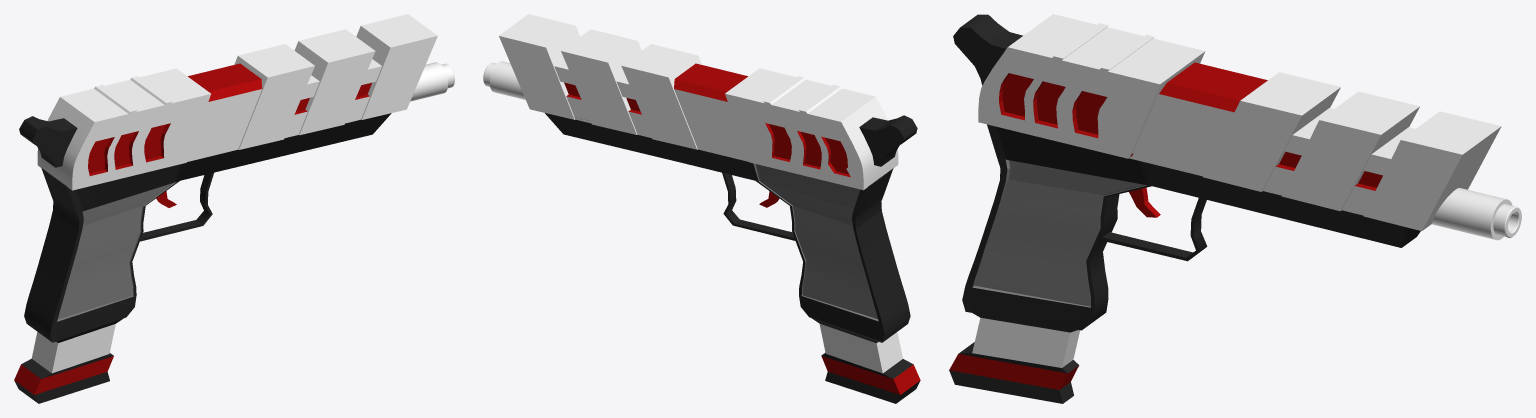
The model's file is lasergun.fbx.
3 views of the same model, side by side, from view 1: azimuth 30°, elevation 25°; view 2: azimuth 150°, elevation 25°; view 3: azimuth 330°, elevation 25° (orthographic). The views are drawn at different scales.
Parts seen in each view (by area): view 1: polySurface2, pCube7, pCube6, pCube8, pCube9, pPipe2; view 2: polySurface2, pCube7, pCube6, pCube8, pCube9, pPipe2; view 3: polySurface2, pCube7, pCube6, pPipe2, pCube8, pCube9, pPipe1.
Part boxes in pixels (x1,y1,x2,y2): polySurface2: (37,14,437,190); pCube7: (14,113,391,403); pCube6: (187,59,381,161); pCube8: (19,116,77,167); pCube9: (140,172,213,241); pPipe2: (410,62,447,101); polySurface2: (499,14,898,190); pCube7: (545,113,920,403); pCube6: (554,59,748,161); pCube8: (859,115,917,166); pCube9: (722,172,795,240); pPipe2: (490,61,525,99); polySurface2: (978,14,1501,231); pCube7: (949,124,1420,403); pCube6: (1129,62,1415,215); pPipe2: (1432,188,1512,240); pCube8: (953,14,1022,85); pCube9: (1101,198,1207,261); pPipe1: (1493,204,1521,237).
Bounding box in the file's own units: 6.62 × 4.15 × 0.9412.
